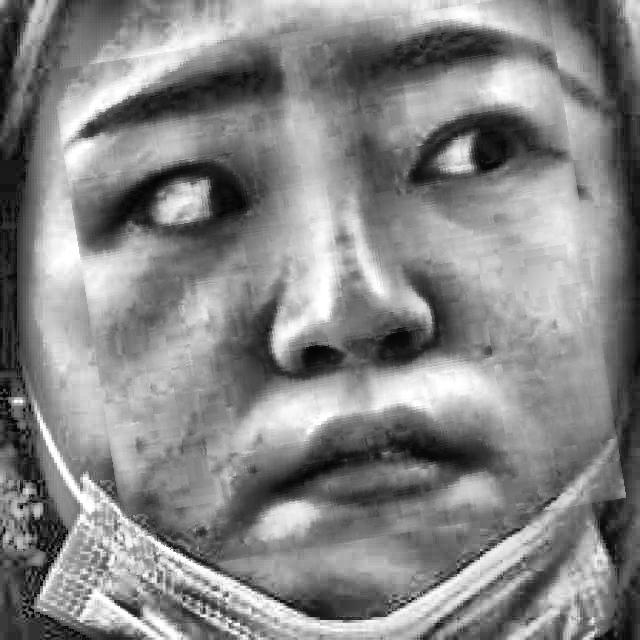fear: (70, 10, 608, 558)
